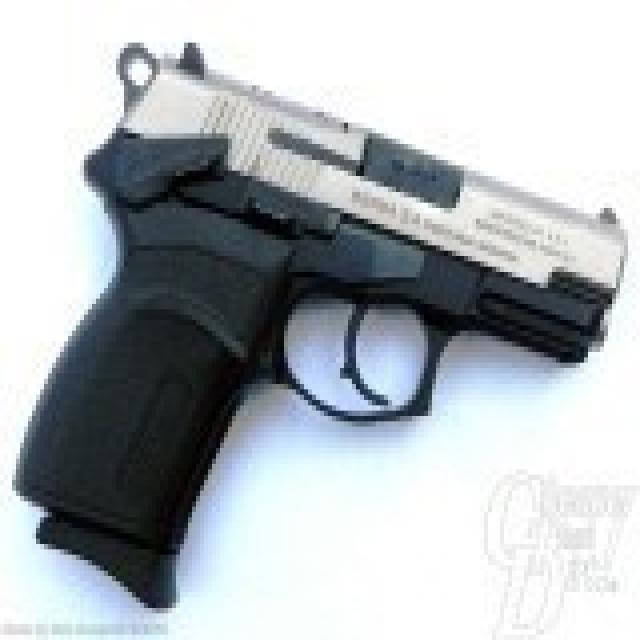Gun: (16, 24, 628, 598)
